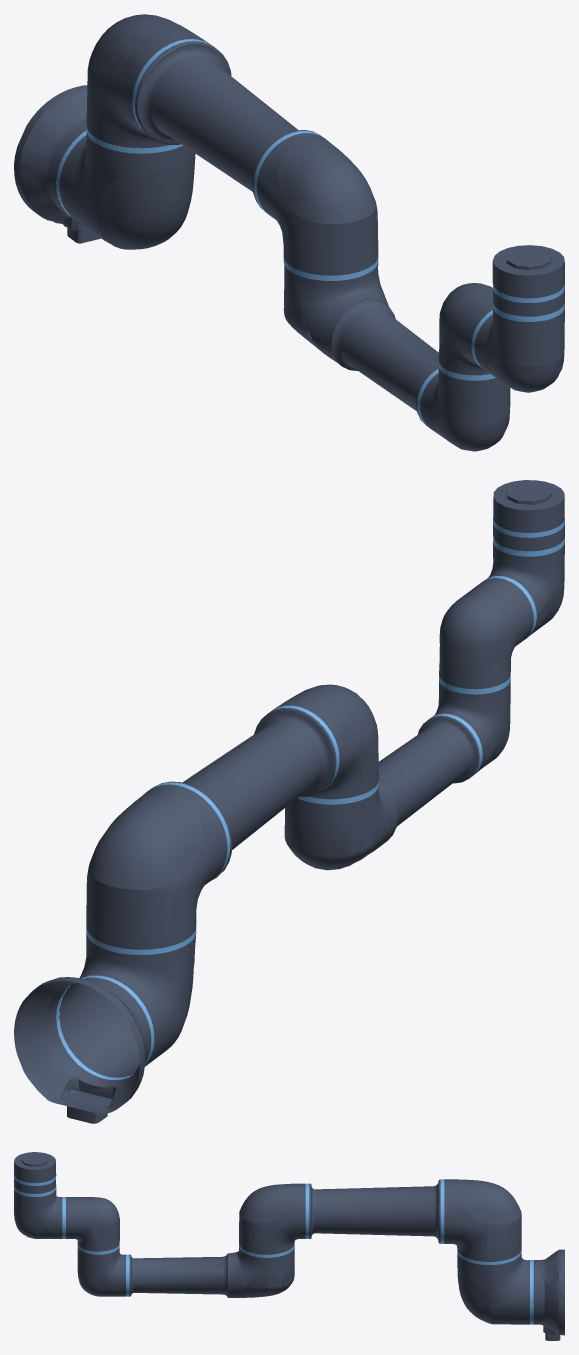
Rendered from 30kg-6axis-model.glb.
3 views of the same model, one above another, from view 1: azimuth 30°, elevation 25°; view 2: azimuth 150°, elevation 25°; view 3: azimuth 270°, elevation 25° (orthographic). The views are drawn at different scales.
Parts seen in each view (by area): view 1: Link2, Link3, Link1, Base, Link5, Link6, Link4; view 2: Link2, Link3, Link1, Base, Link4, Link6, Link5; view 3: Link2, Link3, Link1, Link4, Base, Link5, Link6.
Boxes of the visible parts, x1,y1,x2,y2 form: Link2: (86,14,378,280); Link3: (283,262,510,451); Link1: (59,102,195,249); Base: (14,85,147,243); Link5: (474,293,564,392); Link6: (492,245,564,316); Link4: (438,283,492,375); Link2: (86,684,378,949); Link3: (284,675,510,870); Link1: (59,926,196,1077); Base: (14,975,154,1123); Link4: (439,576,536,688); Link6: (493,480,564,551); Link5: (484,527,564,638); Link2: (239,1179,521,1261); Link3: (77,1244,294,1297); Link1: (457,1249,529,1324); Link4: (62,1197,119,1251); Base: (530,1249,564,1340); Link5: (14,1180,62,1238); Link6: (14,1152,56,1193).
Bounding box in the file's own units: 0.2446 × 0.5605 × 1.58.
